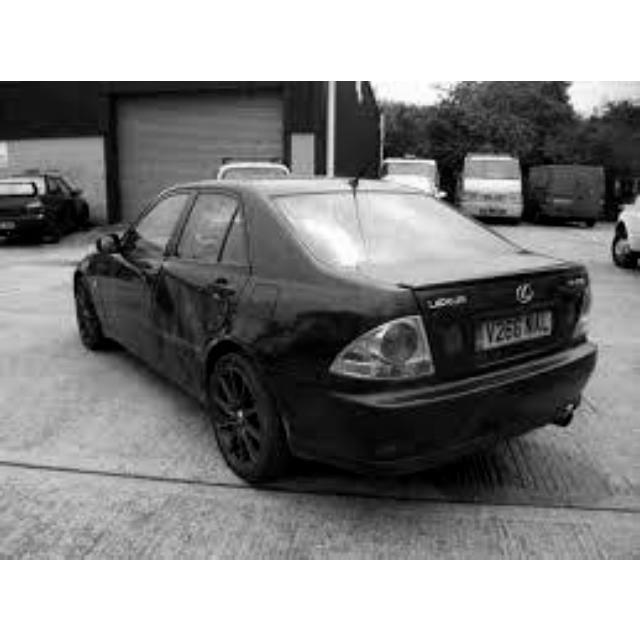doorouter-dent: (139, 261, 230, 362)
